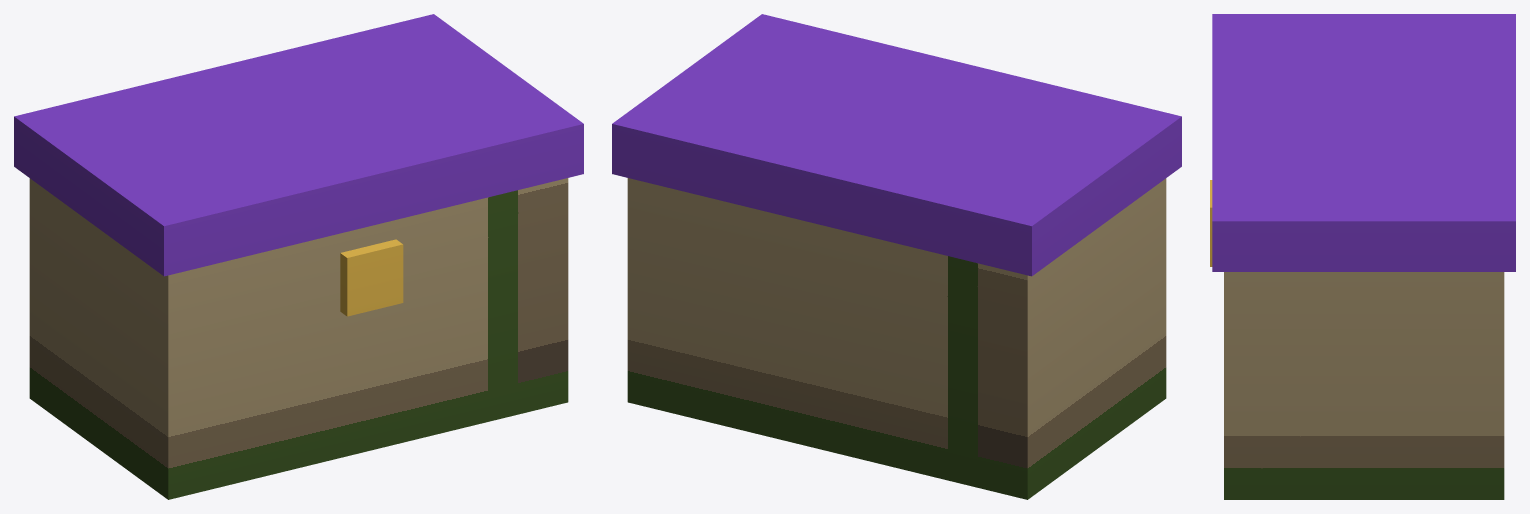
The model's file is reliquary.glb.
3 renders of one model, left to right at view 1: azimuth 30°, elevation 25°; view 2: azimuth 150°, elevation 25°; view 3: azimuth 270°, elevation 25°, orthographic.
Parts seen in each view (by area): view 1: reliquary; view 2: reliquary; view 3: reliquary.
Boxes of the visible parts, bbox=[...] form: reliquary: bbox=[14, 14, 583, 499]; reliquary: bbox=[612, 14, 1181, 499]; reliquary: bbox=[1210, 14, 1515, 499].
Bounding box in the file's own units: 1.05 × 0.67 × 0.655.
Materials: 3 (1 with a texture image).
